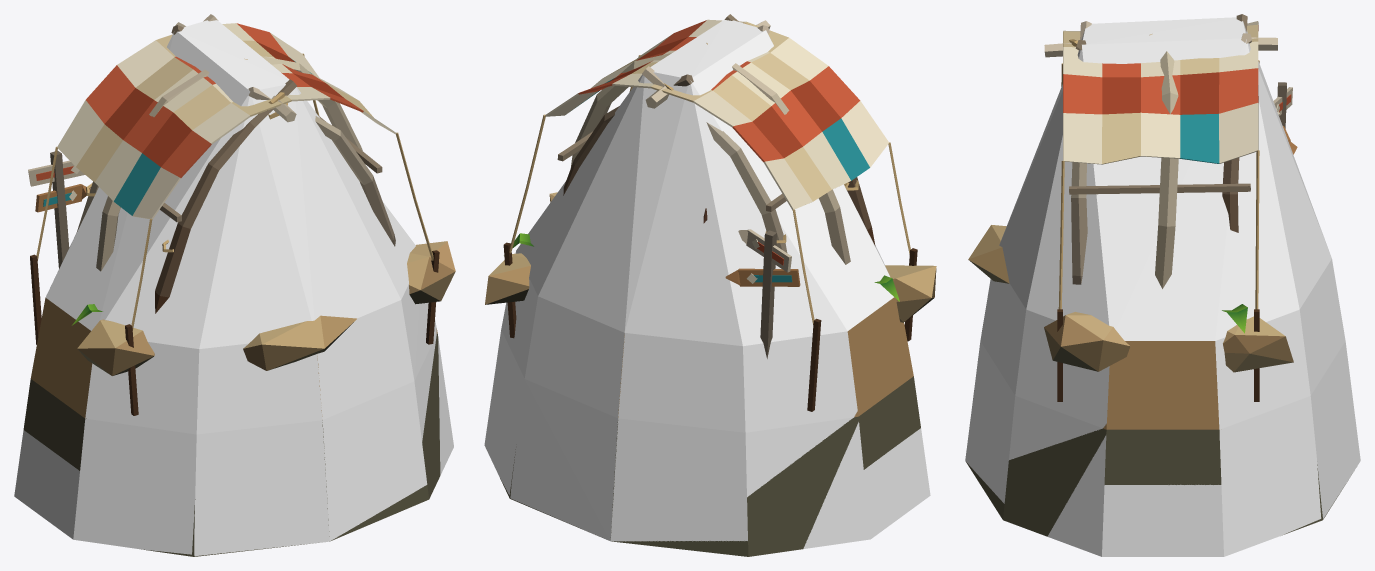
The model's file is coastal_driftwood_arch_camp.glb.
The picture shows the model from 3 angles, left to right: view 1: azimuth 30°, elevation 25°; view 2: azimuth 150°, elevation 25°; view 3: azimuth 270°, elevation 25°; orthographic projection. The views are drawn at different scales.
Parts seen in each view (by area): view 1: col_bivouac_base, CoastalDriftwoodArchCamp; view 2: col_bivouac_base, CoastalDriftwoodArchCamp; view 3: col_bivouac_base, CoastalDriftwoodArchCamp.
Boxes of the visible parts, left/top/right/bottom form: col_bivouac_base: left=14, top=20, right=453, bottom=556; CoastalDriftwoodArchCamp: left=23, top=14, right=455, bottom=556; col_bivouac_base: left=484, top=19, right=930, bottom=548; CoastalDriftwoodArchCamp: left=485, top=14, right=936, bottom=556; col_bivouac_base: left=965, top=17, right=1360, bottom=556; CoastalDriftwoodArchCamp: left=965, top=14, right=1348, bottom=536.
Size of the model in its own units: 6.01 by 6.38 by 5.23.
